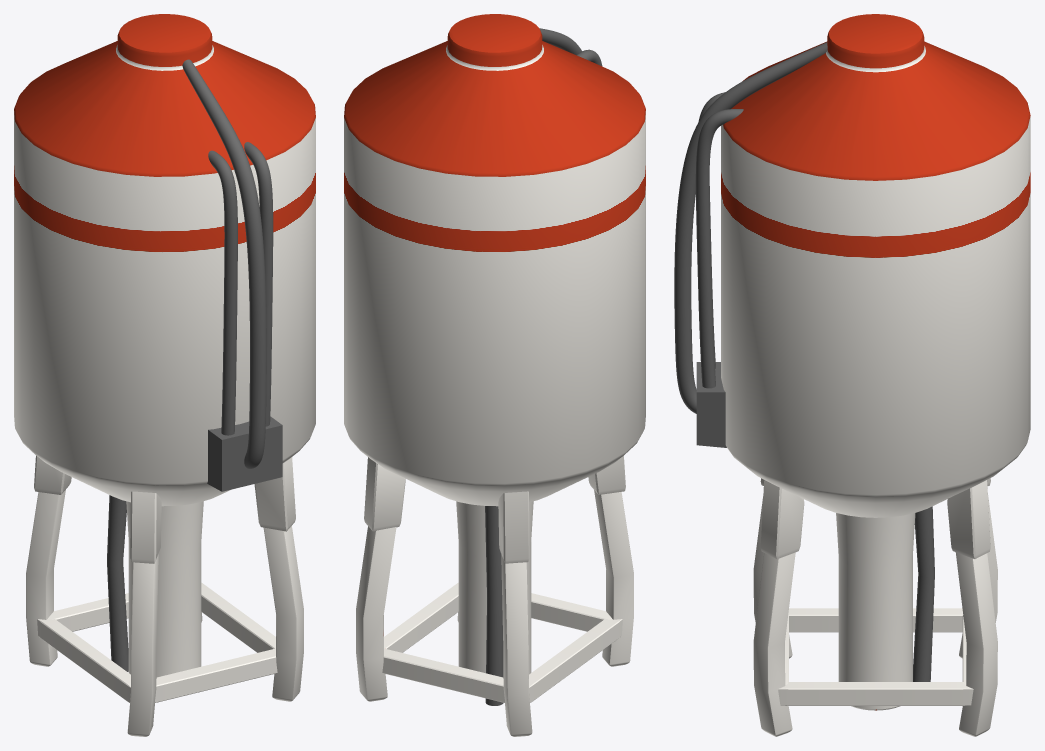
The model's file is watertowerfinal.obj.
The picture shows the model from 3 angles, left to right: view 1: azimuth 30°, elevation 25°; view 2: azimuth 150°, elevation 25°; view 3: azimuth 270°, elevation 25°; orthographic projection. The views are drawn at different scales.
Visible parts, largest first — view 1: Cylinder.003_Cylinder.005; view 2: Cylinder.003_Cylinder.005; view 3: Cylinder.003_Cylinder.005.
Boxes of the visible parts, <box> form: Cylinder.003_Cylinder.005: <box>14,14,315,736</box>; Cylinder.003_Cylinder.005: <box>344,14,645,736</box>; Cylinder.003_Cylinder.005: <box>674,14,1030,736</box>.
Size of the model in its own units: 2.42 by 5.72 by 2.78.
